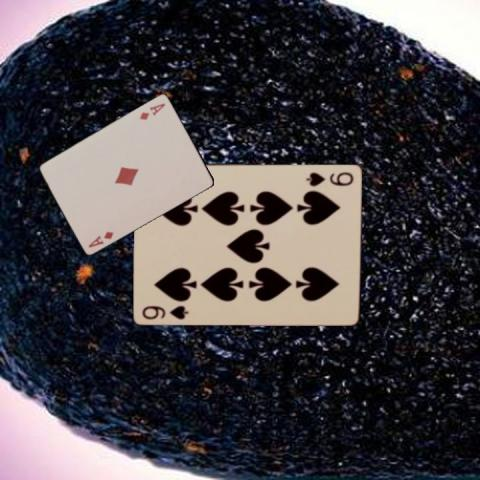9s: (303, 169, 355, 187), (140, 302, 191, 320)
Ad: (136, 100, 166, 121), (85, 228, 115, 249)
